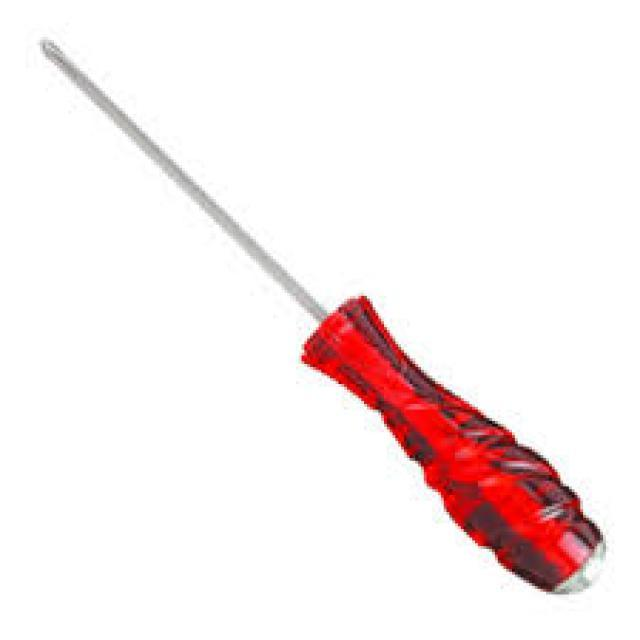screwdriver: (31, 34, 609, 595)
